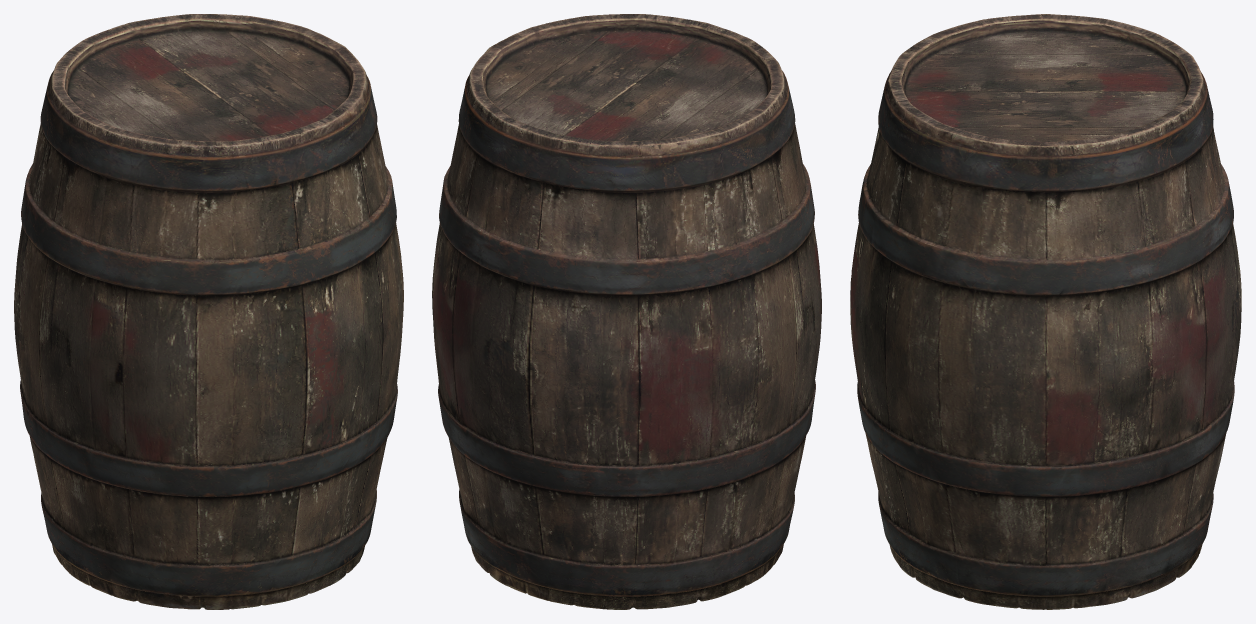
Rendered from Meshy_AI_Weathered_Barrel_0613224845_texture.fbx.
3 renders of one model, left to right at view 1: azimuth 30°, elevation 25°; view 2: azimuth 150°, elevation 25°; view 3: azimuth 270°, elevation 25°, orthographic.
Visible parts, largest first — view 1: Mesh_0; view 2: Mesh_0; view 3: Mesh_0.
Part boxes in pixels (x1,y1,x2,y2): Mesh_0: (14, 14, 403, 609); Mesh_0: (432, 14, 821, 609); Mesh_0: (850, 14, 1241, 609).
Bounding box in the file's own units: 146 × 191 × 146.
Materials: 1 (1 with a texture image).
